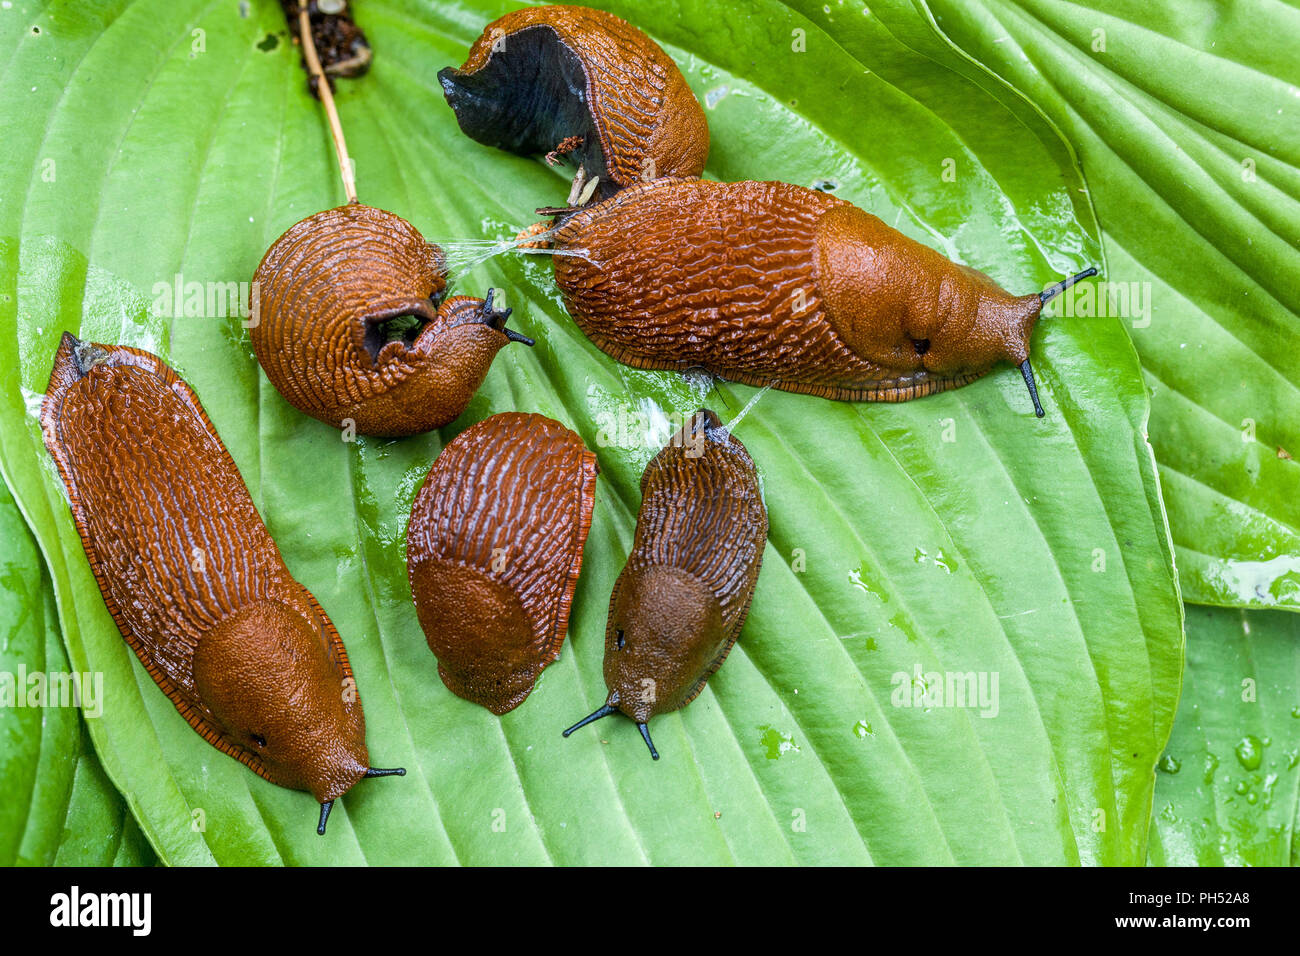slug: (31, 322, 406, 831), (545, 182, 1063, 423), (559, 410, 783, 743), (245, 205, 519, 437), (436, 7, 710, 193), (425, 417, 592, 706)
